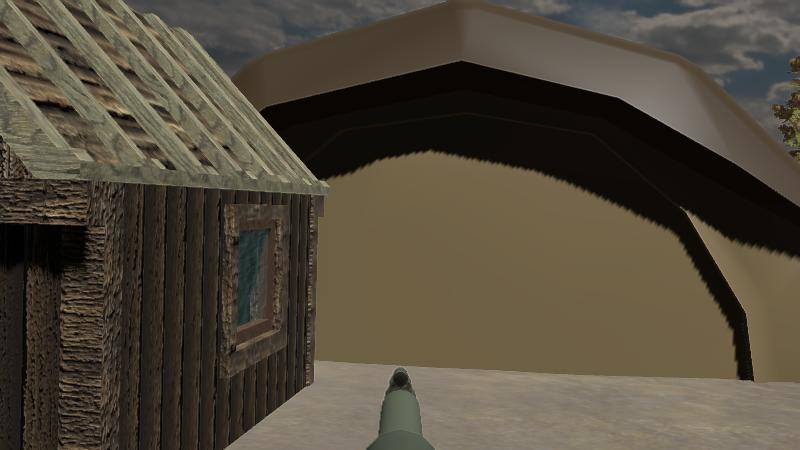House: (1, 0, 321, 450)
